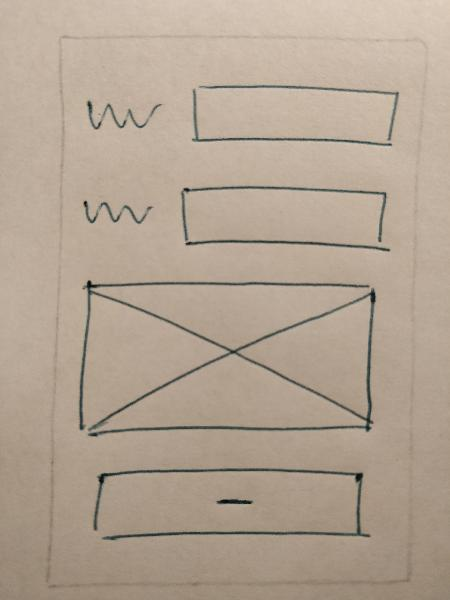button: (87, 463, 382, 544)
image: (72, 272, 380, 442)
text: (77, 88, 167, 139), (75, 188, 158, 240)
text_input: (183, 76, 407, 158), (172, 177, 395, 257)
